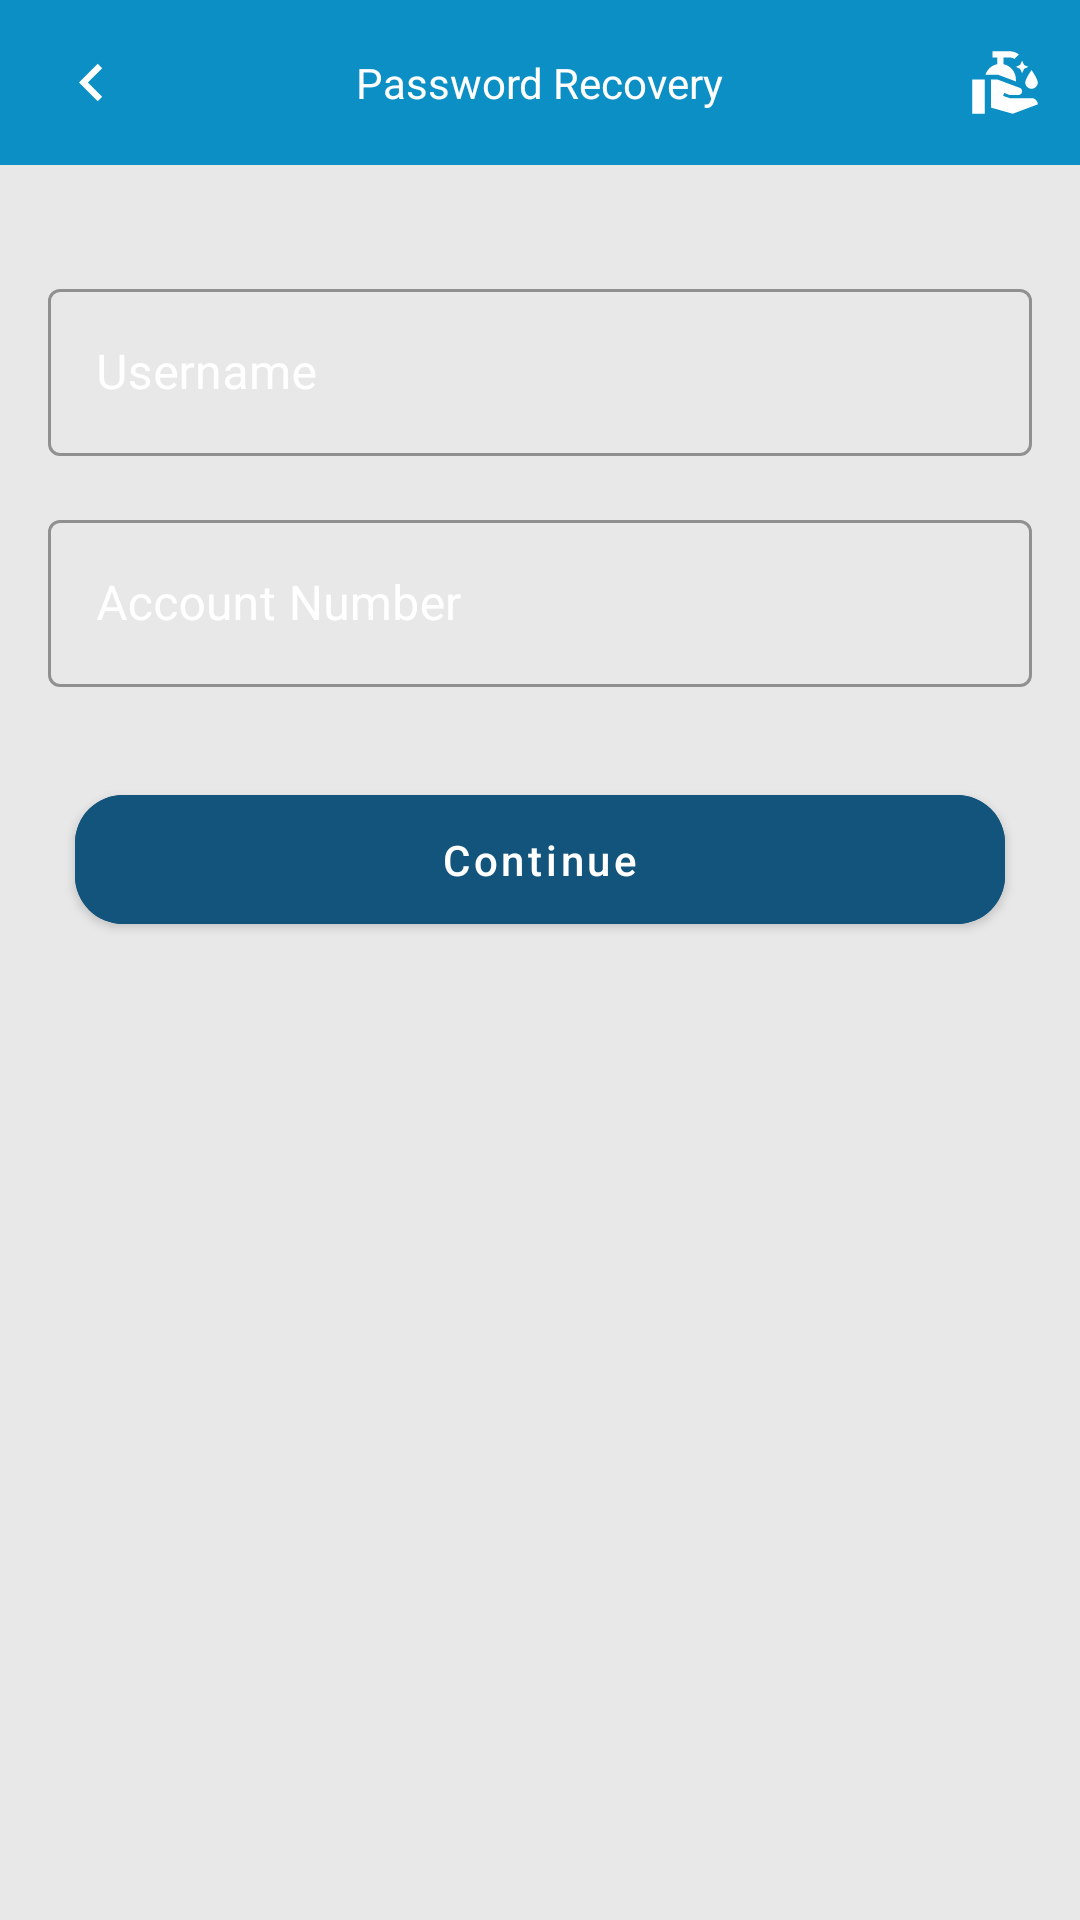

Named icons in this screenshot (1080w x 1920h) and their centers, [x,y]:
previcon: [90,82]
